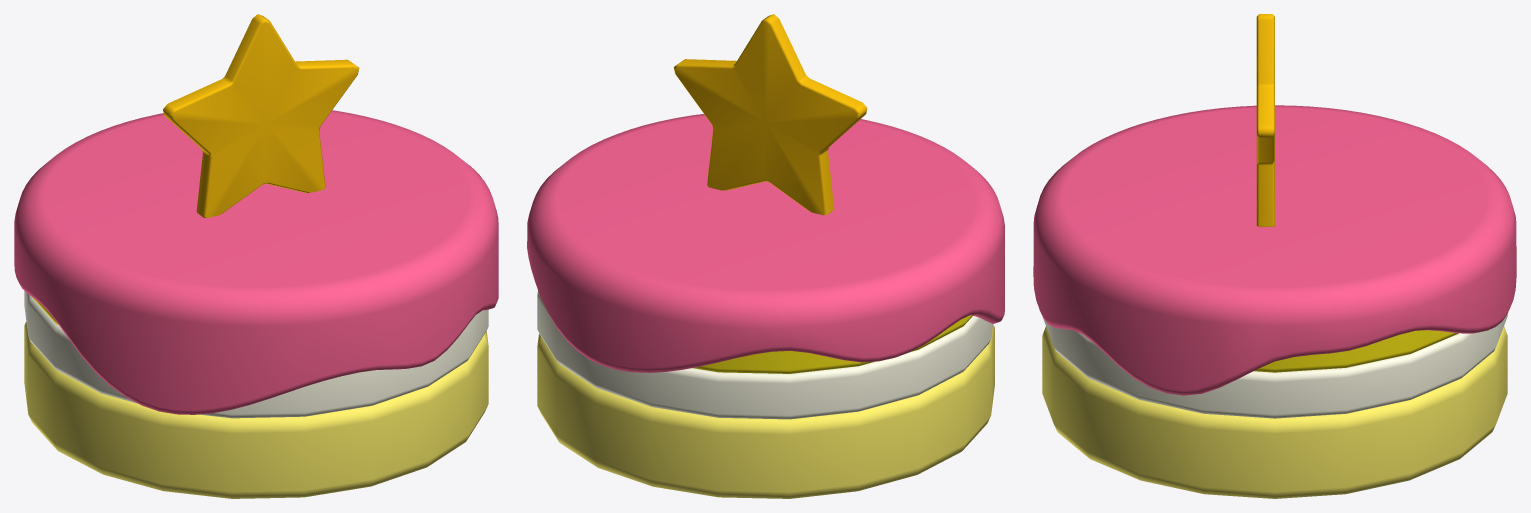
Rendered from Town_16_Dessert_2.glb.
3 renders of one model, left to right at view 1: azimuth 30°, elevation 25°; view 2: azimuth 150°, elevation 25°; view 3: azimuth 270°, elevation 25°, orthographic.
Visible parts, largest first — view 1: Town_16_Dessert_2; view 2: Town_16_Dessert_2; view 3: Town_16_Dessert_2.
Boxes of the visible parts, <box> form: Town_16_Dessert_2: <box>14,14,498,498</box>; Town_16_Dessert_2: <box>527,14,1004,498</box>; Town_16_Dessert_2: <box>1033,14,1516,498</box>.
Bounding box in the file's own units: 0.1741 × 0.1555 × 0.1736.
1 material, 1 textured.
